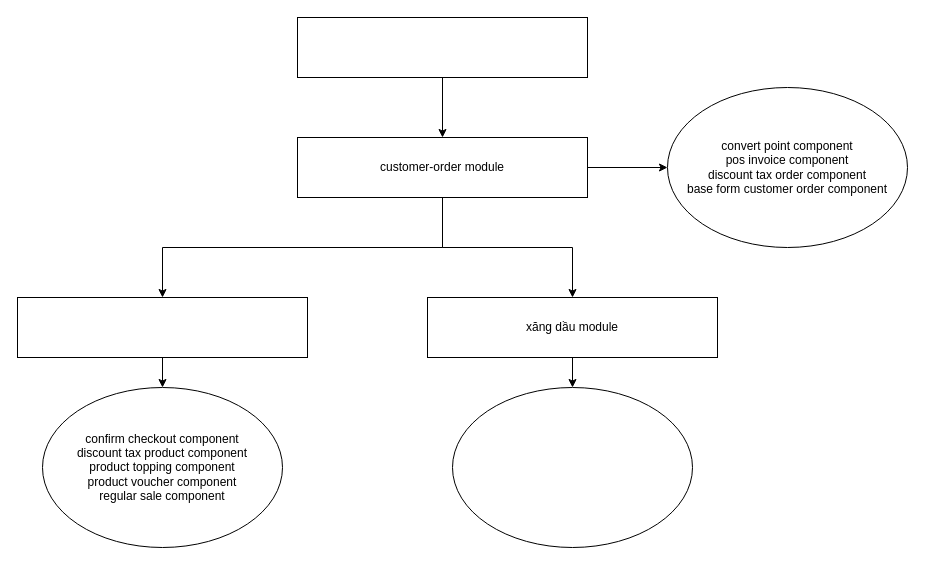
Some shapes in this 925 by 565 pixel diagram are drawn without their labels. The centre of each missing label's shape, as x and y in pixels:
app module: point (442, 47)
bán hàng thường module: point (162, 327)
petrolimex sale component: point (572, 467)
